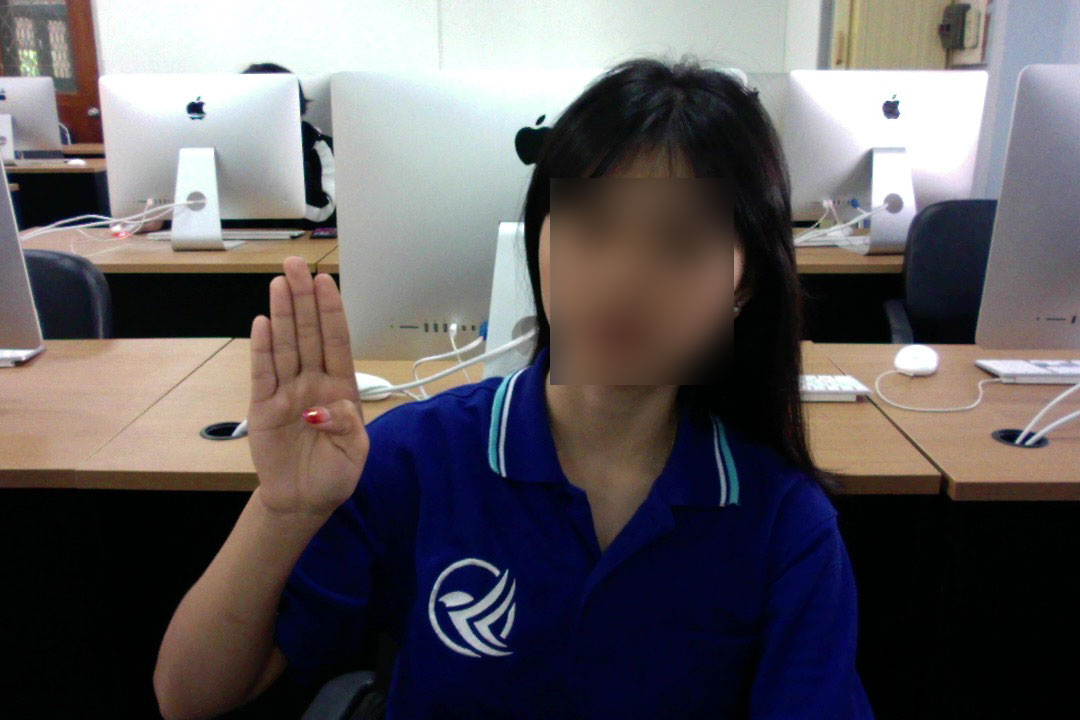bor: (225, 250, 376, 521)
